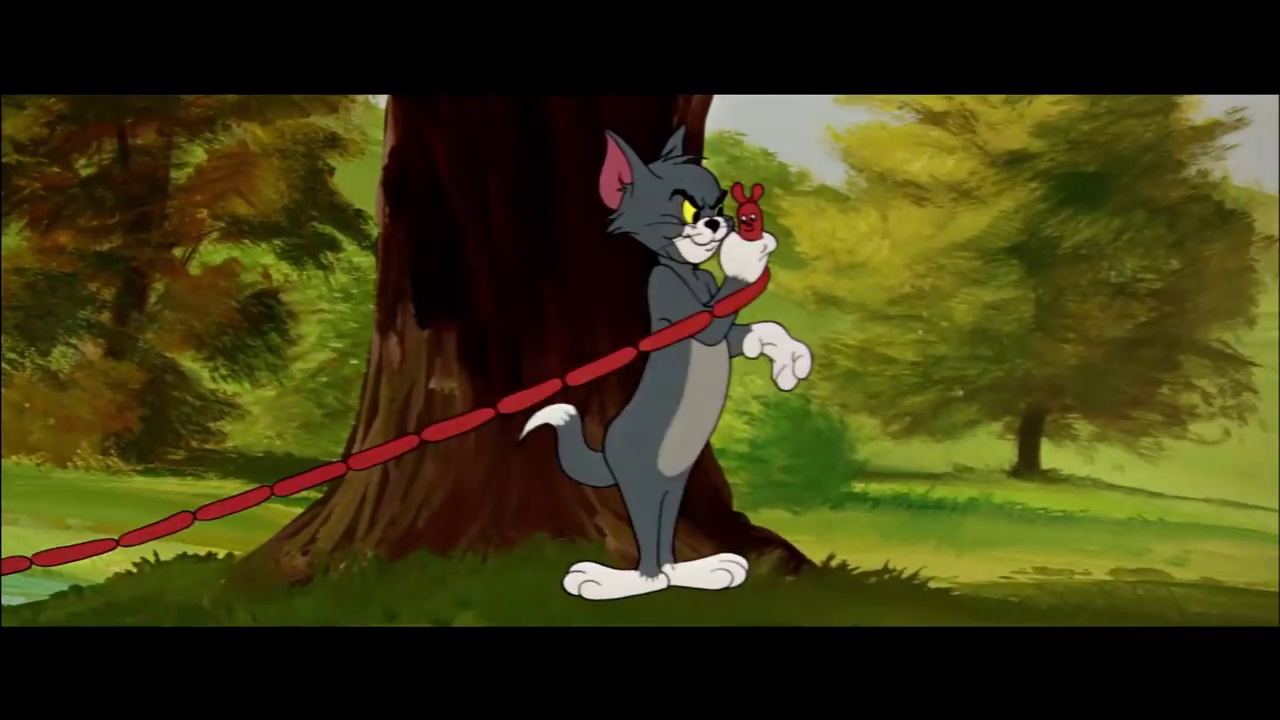tom: (592, 127, 734, 270)
